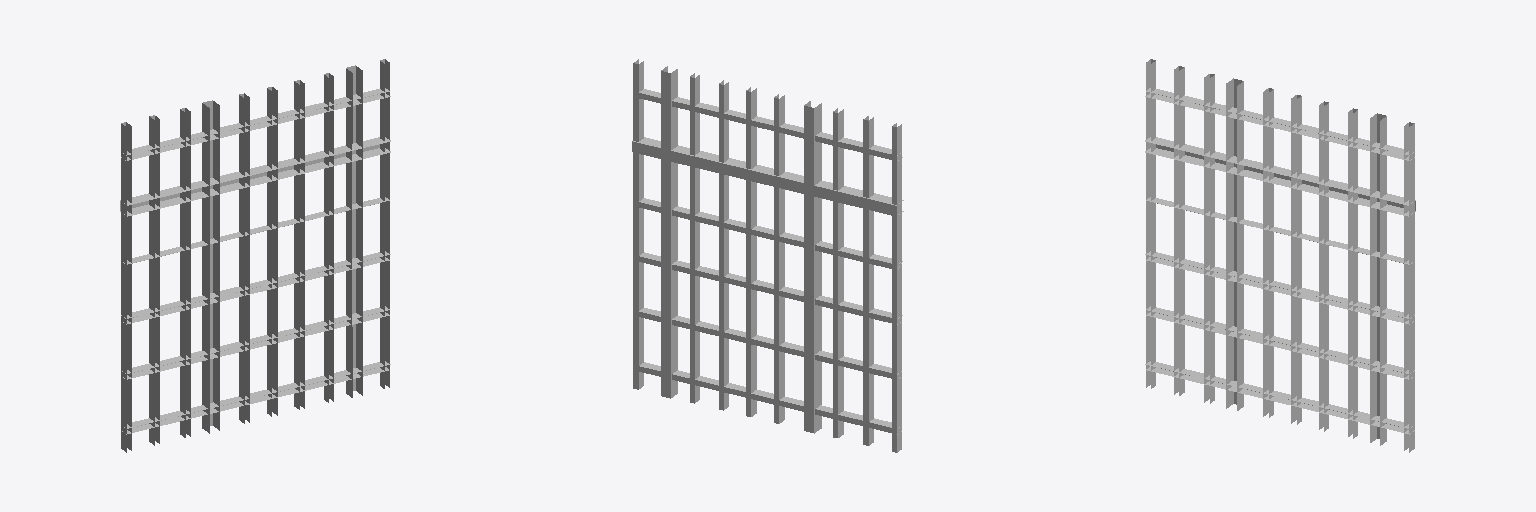
The model's file is jail_Gate.obj.
3 renders of one model, left to right at view 1: azimuth 30°, elevation 25°; view 2: azimuth 150°, elevation 25°; view 3: azimuth 330°, elevation 25°, orthographic.
Parts seen in each view (by area): view 1: Cube.009_Cube.002; view 2: Cube.009_Cube.002; view 3: Cube.009_Cube.002.
Boxes of the visible parts, x1=… form: Cube.009_Cube.002: x1=120, y1=59, x2=390, y2=452; Cube.009_Cube.002: x1=632, y1=59, x2=903, y2=452; Cube.009_Cube.002: x1=1145, y1=59, x2=1415, y2=452.
Size of the model in its own units: 7.57 by 8.91 by 0.3656.